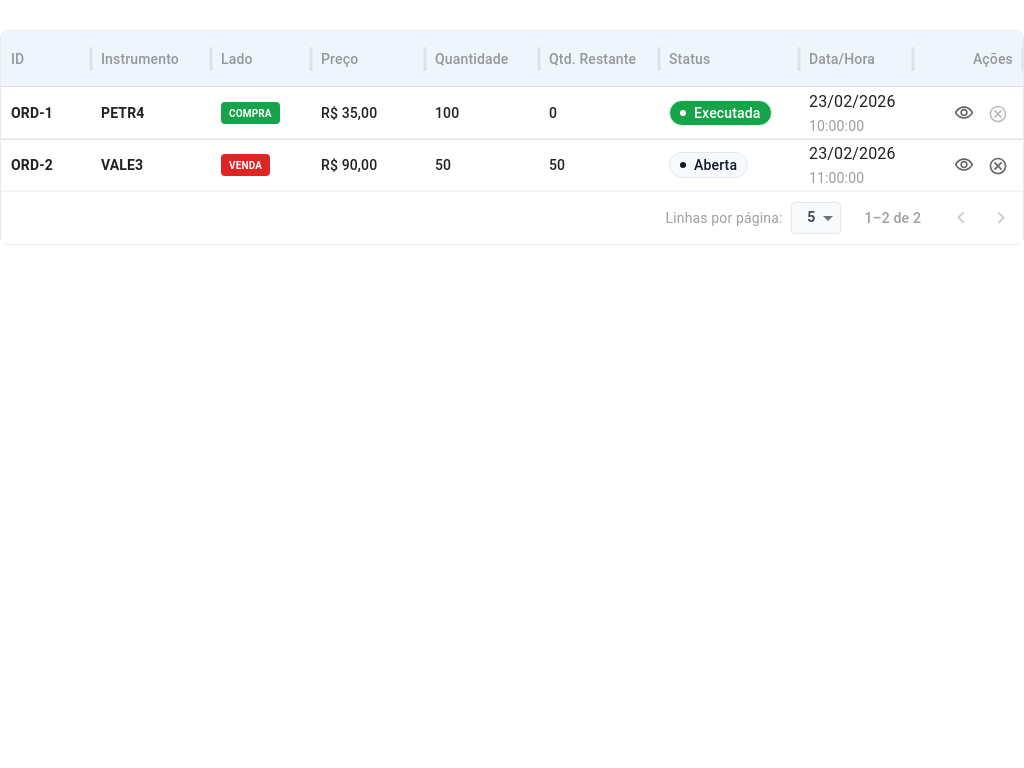
Test case: Renderização da tabela de Ordens › Abre o modal de linha do tempo ao clicar em uma linha
Click the cell "PETR4" at (151, 113), box [91, 87, 211, 139]
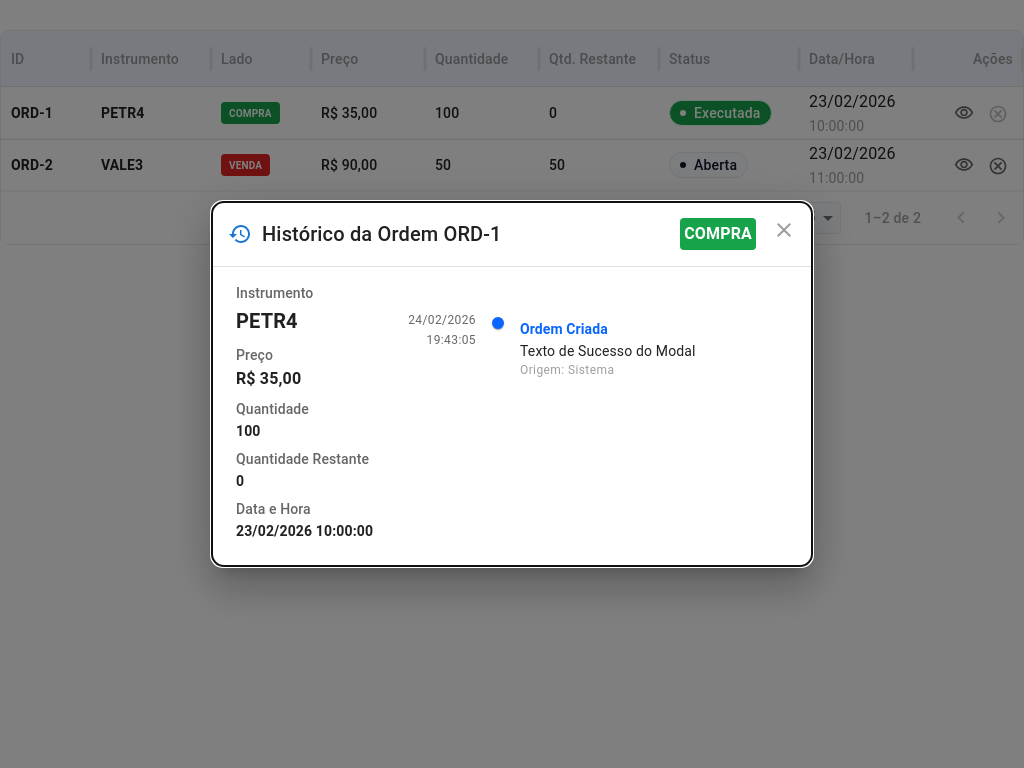
Now the text "Texto de Sucesso do Modal" is shown, box [520, 343, 696, 359]
Now the text "Histórico da Ordem ORD-1" is shown, box [228, 218, 502, 250]
